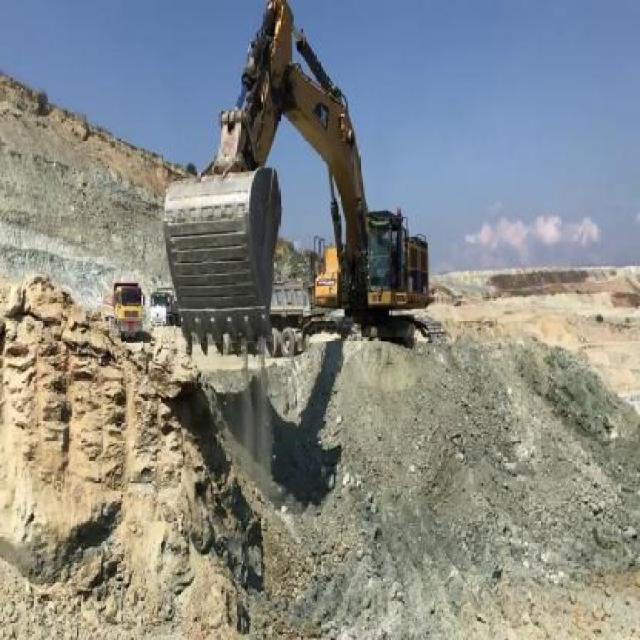dump_truck: (268, 280, 314, 354), (103, 281, 142, 339), (149, 285, 180, 330)
excavator: (163, 0, 438, 358)
